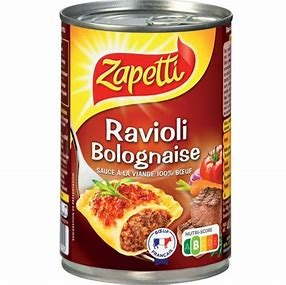metal: (58, 1, 234, 285)
